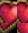heart: (0, 0, 17, 23), (0, 23, 17, 33), (17, 23, 28, 33)
